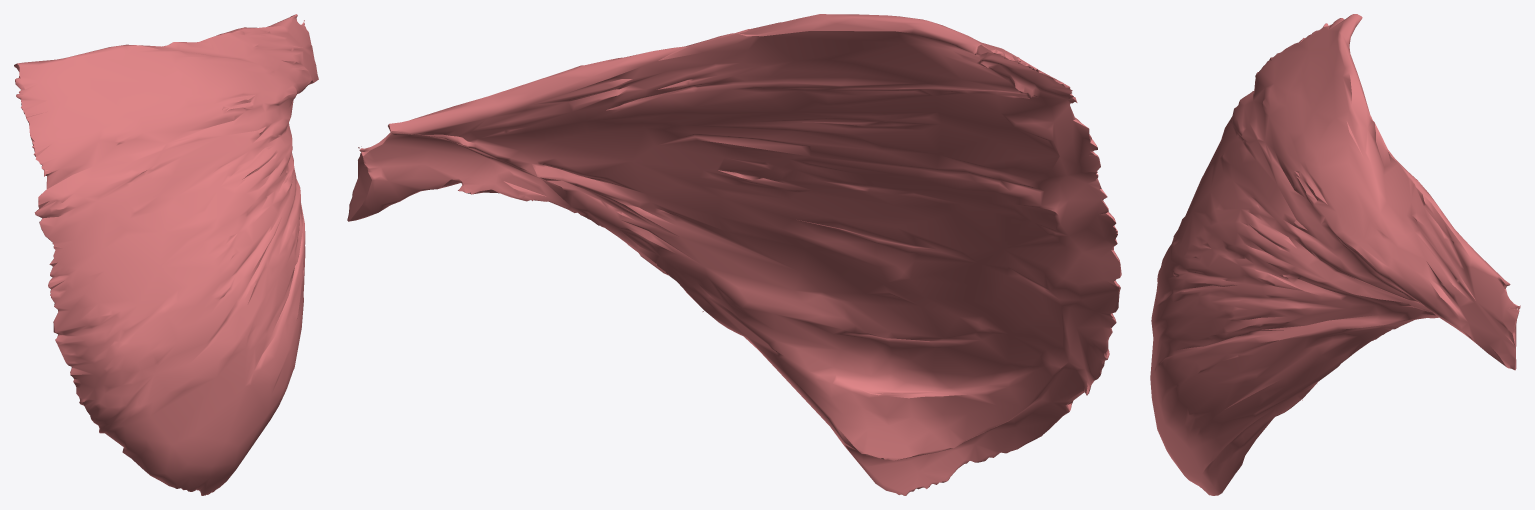
3 views of the same model, side by side, from view 1: azimuth 30°, elevation 25°; view 2: azimuth 150°, elevation 25°; view 3: azimuth 270°, elevation 25° (orthographic). The views are drawn at different scales.
Visible parts, largest first — view 1: FJ1464M; view 2: FJ1464M; view 3: FJ1464M.
Part boxes in pixels (x1=…): FJ1464M: x1=14, y1=14, x2=318, y2=495; FJ1464M: x1=347, y1=14, x2=1121, y2=495; FJ1464M: x1=1150, y1=14, x2=1520, y2=495.
Size of the model in its own units: 0.1821 by 0.1723 by 0.1376.
